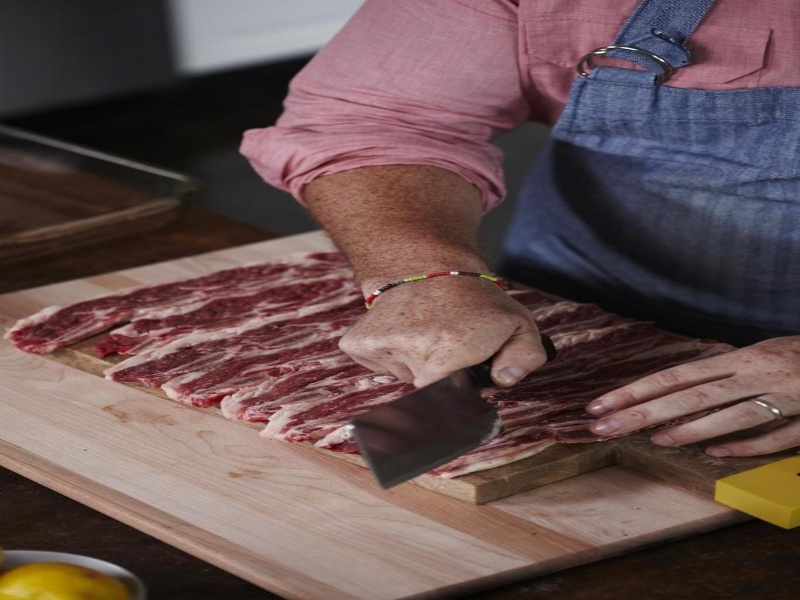knife: (331, 330, 563, 495)
